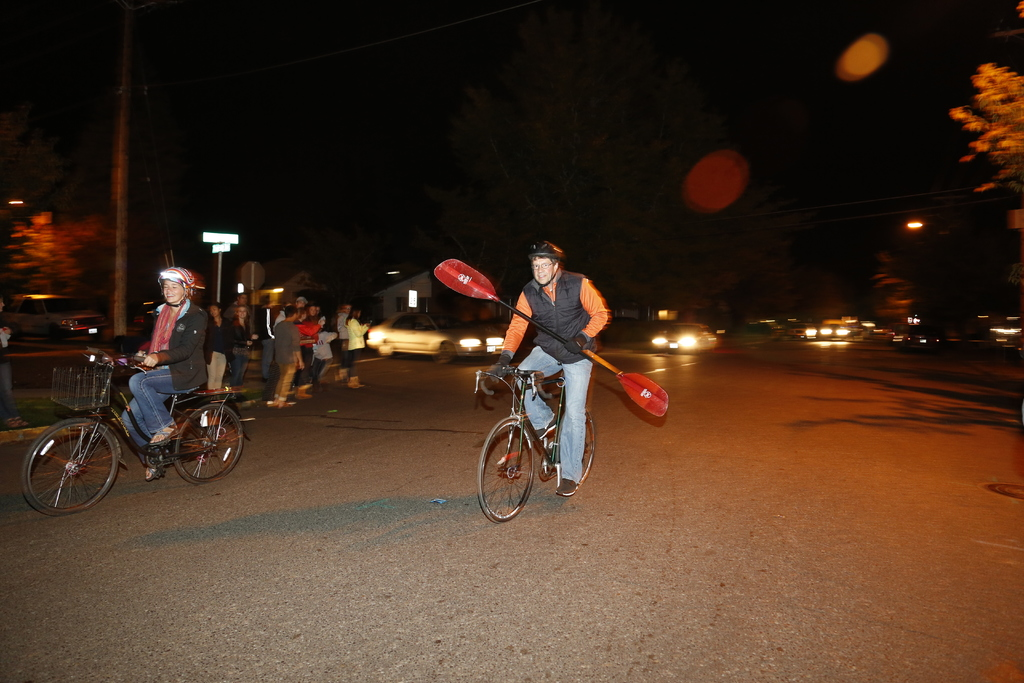Bike: (463, 363, 620, 529)
